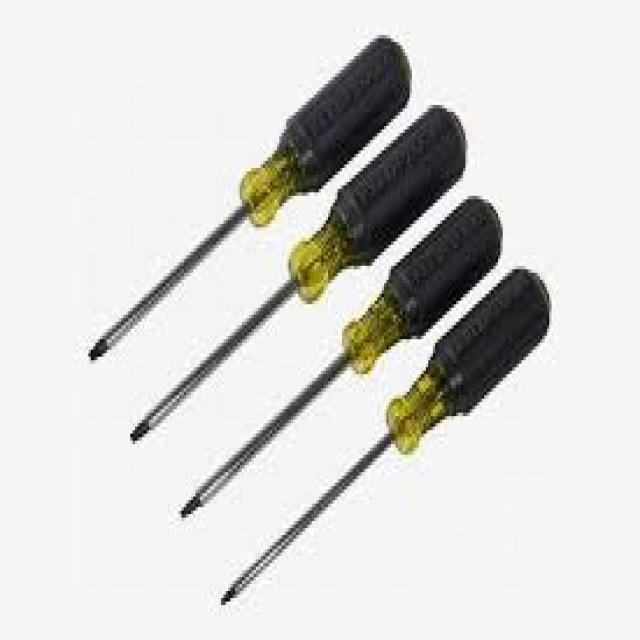screwdriver: (199, 256, 559, 612), (127, 97, 479, 450), (88, 24, 416, 384), (181, 178, 504, 526)
